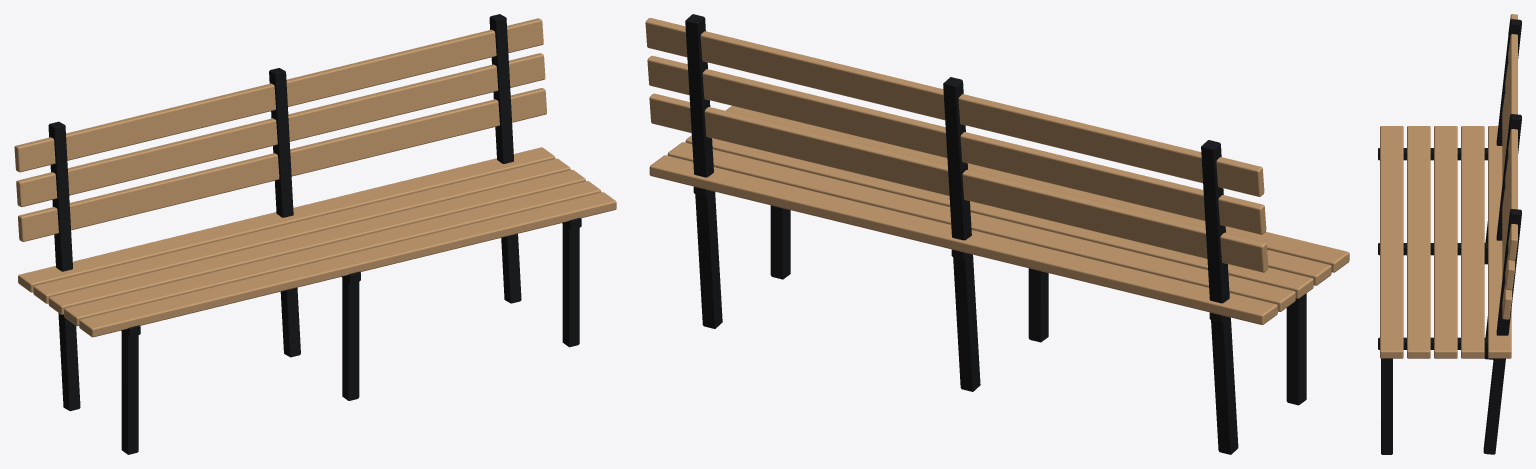
Rendered from waiting-bench.glb.
3 views of the same model, side by side, from view 1: azimuth 30°, elevation 25°; view 2: azimuth 150°, elevation 25°; view 3: azimuth 270°, elevation 25° (orthographic). The views are drawn at different scales.
Parts seen in each view (by area): view 1: BODY; view 2: BODY; view 3: BODY.
Boxes of the visible parts, bbox=[...] form: BODY: bbox=[14, 14, 616, 454]; BODY: bbox=[645, 14, 1349, 454]; BODY: bbox=[1378, 14, 1521, 454].
Bounding box in the file's own units: 1.8 × 0.8994 × 0.4843.
